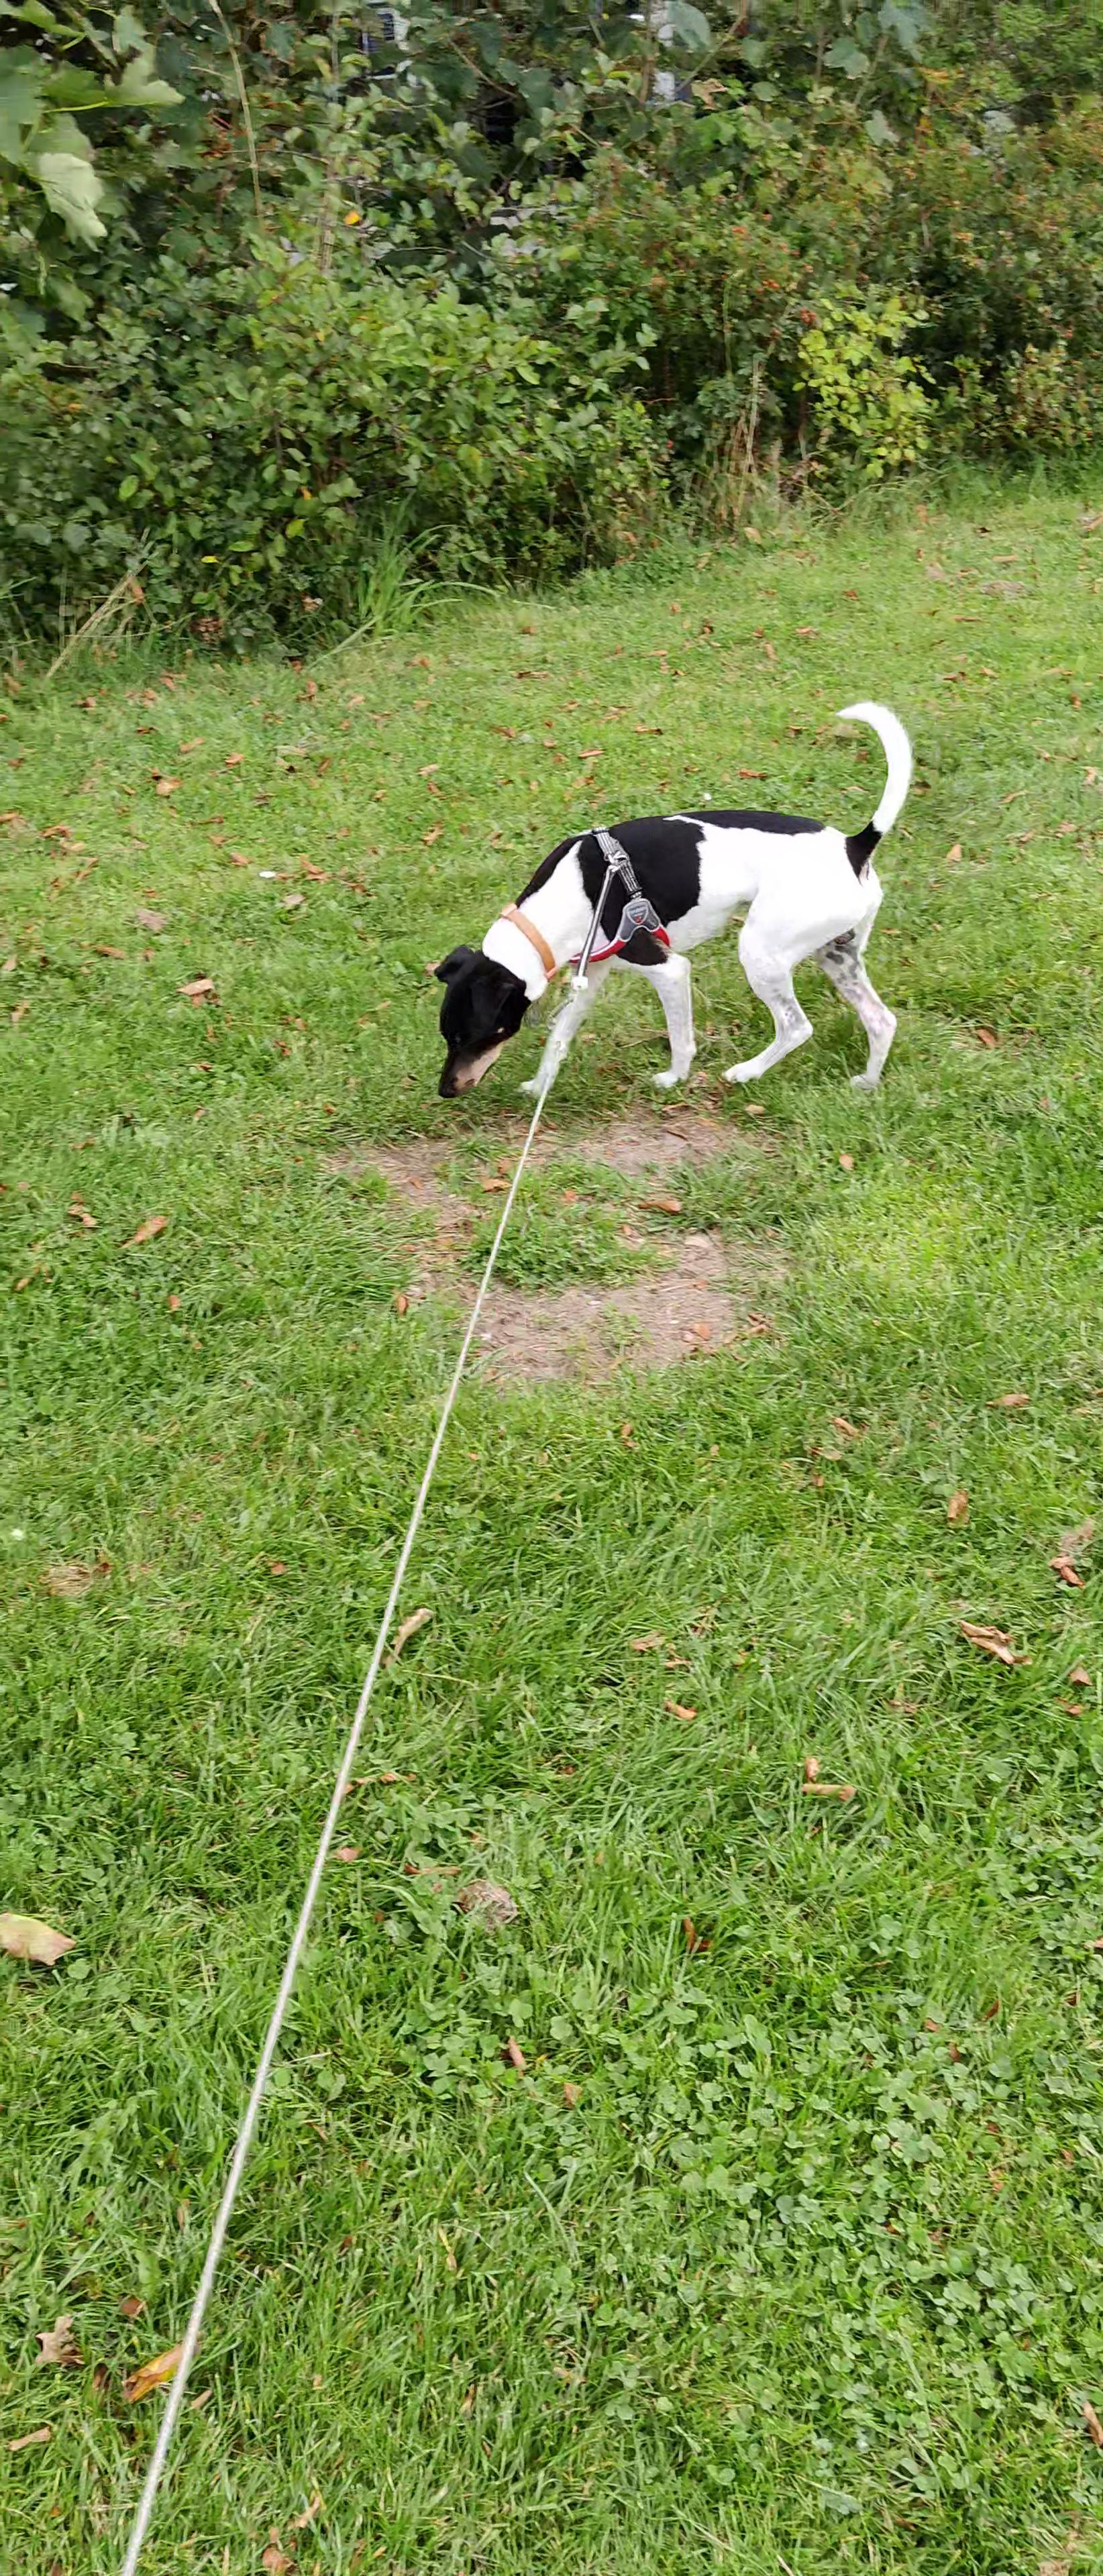Dog: (414, 687, 929, 1112)
